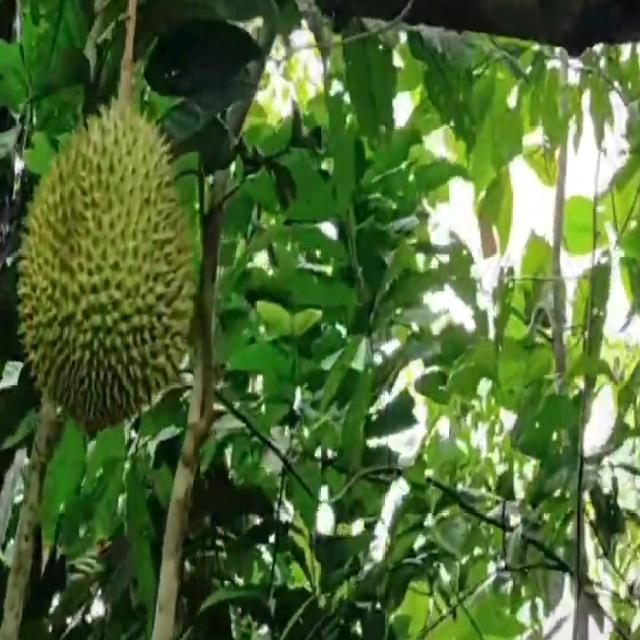immature: (13, 88, 196, 440)
